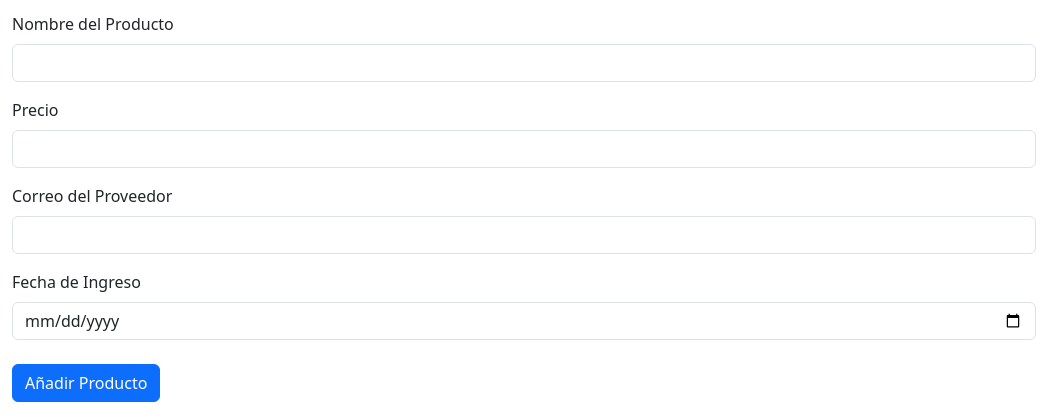
Test: ProductForm › fields clear after adding a product
Type "Nuevo Producto" into the field labelled "Nombre del Producto".
click(524, 63); type("Nuevo Producto")  # box [12,44,1036,82]
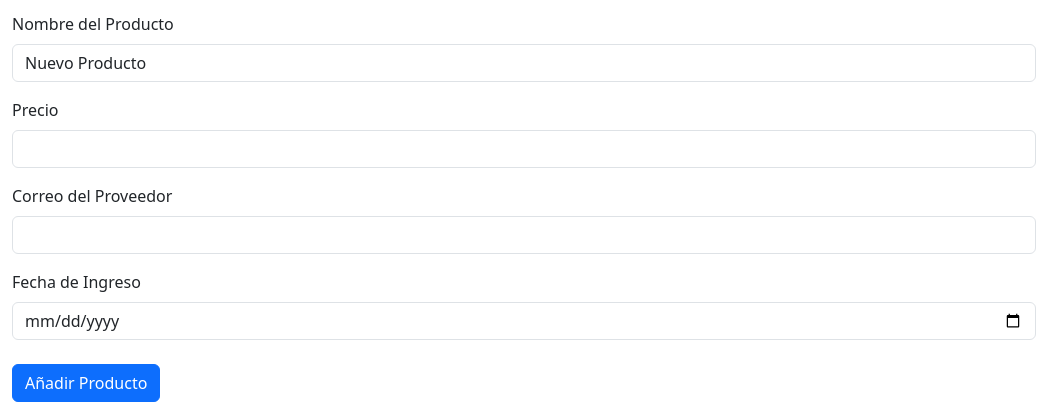
Type "500" into the number field labelled "Precio".
click(524, 149); type("500")  # box [12,130,1036,168]
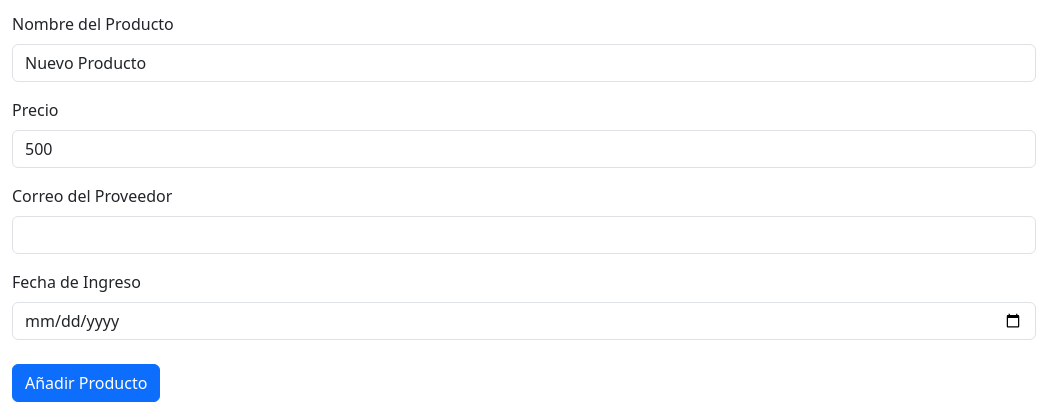
Type "nuevo@example.com" into the field labelled "Correo del Proveedor".
click(524, 235); type("nuevo@example.com")  # box [12,216,1036,254]
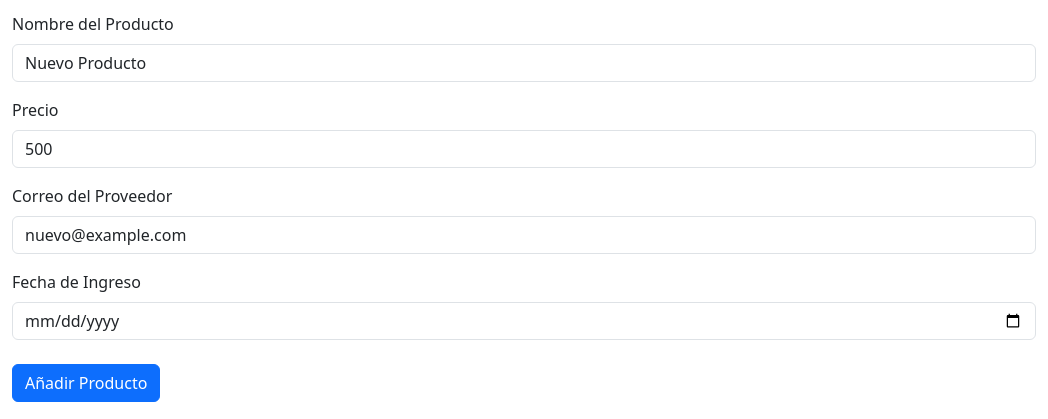
Type "2024-07-01" into the date field labelled "Fecha de Ingreso".
click(524, 321); type("2024-07-01")  # box [12,302,1036,340]
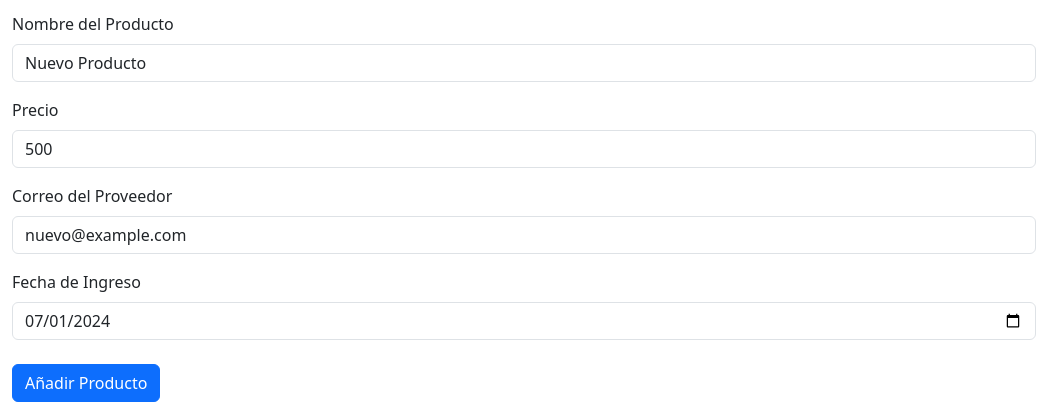
Click the button "Añadir Producto".
click(86, 383)  # box [12,364,160,402]
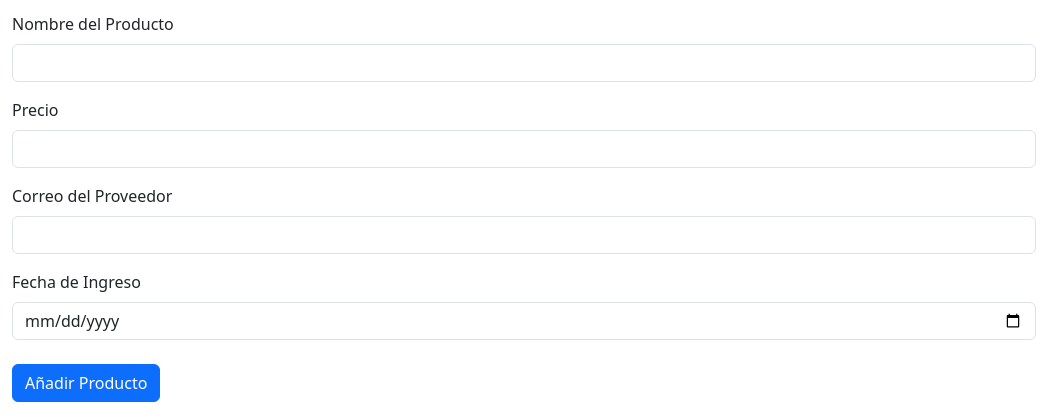
Now the field labelled "Nombre del Producto" is empty, box [12,44,1036,82]
Now the number field labelled "Precio" is not empty, box [12,130,1036,168]
Now the field labelled "Correo del Proveedor" is empty, box [12,216,1036,254]
